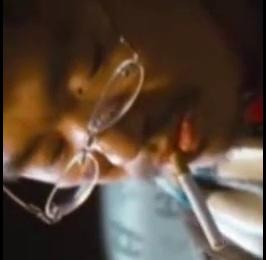Cigarette: (170, 152, 224, 248)
